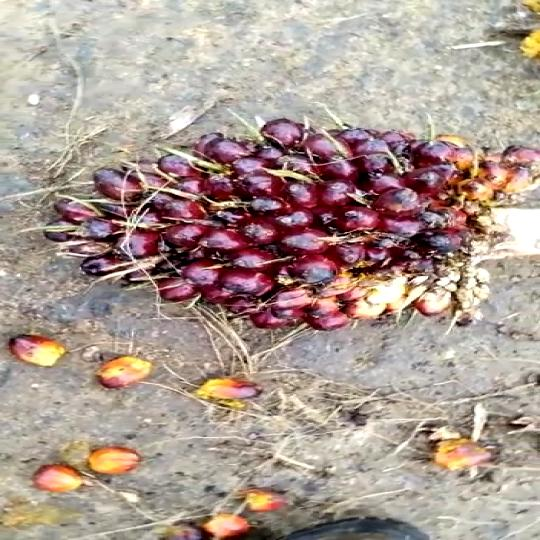kurang masak: (38, 95, 540, 358)
